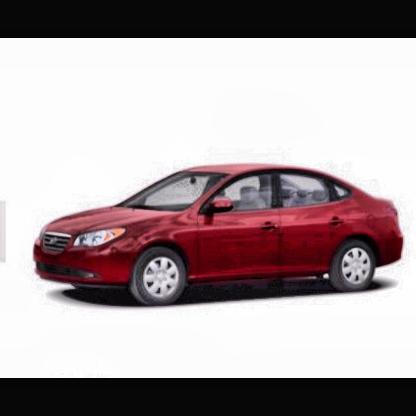Hyundai Elantra Sedan 2007: (35, 165, 405, 308)
